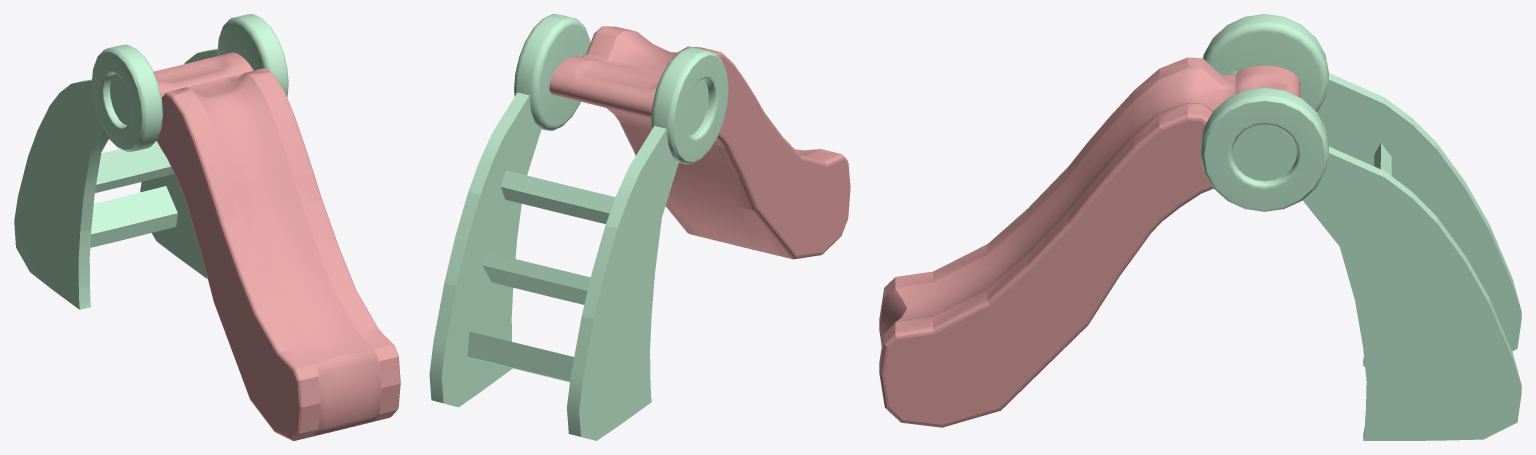
Rendered from Slide.fbx.
The picture shows the model from 3 angles, left to right: view 1: azimuth 30°, elevation 25°; view 2: azimuth 150°, elevation 25°; view 3: azimuth 270°, elevation 25°; orthographic projection. The views are drawn at different scales.
Visible parts, largest first — view 1: pCylinder1; view 2: pCylinder1; view 3: pCylinder1.
Part boxes in pixels (bbox=[...]): pCylinder1: bbox=[14, 14, 400, 440]; pCylinder1: bbox=[429, 14, 850, 440]; pCylinder1: bbox=[879, 14, 1521, 440].
Size of the model in its own units: 7.72 by 14.4 by 24.24.
